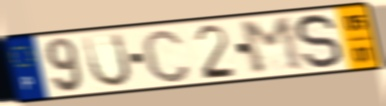2: (193, 23, 238, 81)
9: (46, 35, 87, 95)
C: (139, 27, 194, 85)
M: (237, 15, 308, 77)
S: (293, 12, 346, 73)
U: (81, 31, 134, 89)
